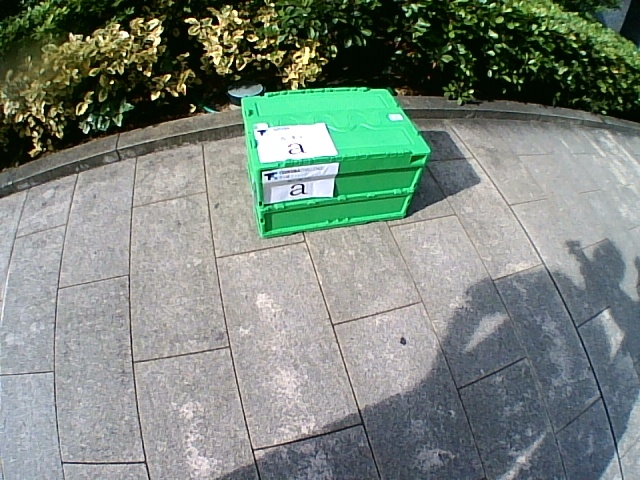blue_box: (240, 87, 432, 239)
tag_b: (262, 127, 329, 156), (265, 172, 333, 198)
